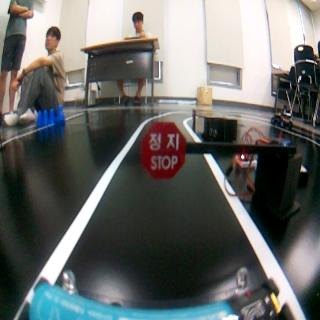stop: (141, 121, 186, 184)
